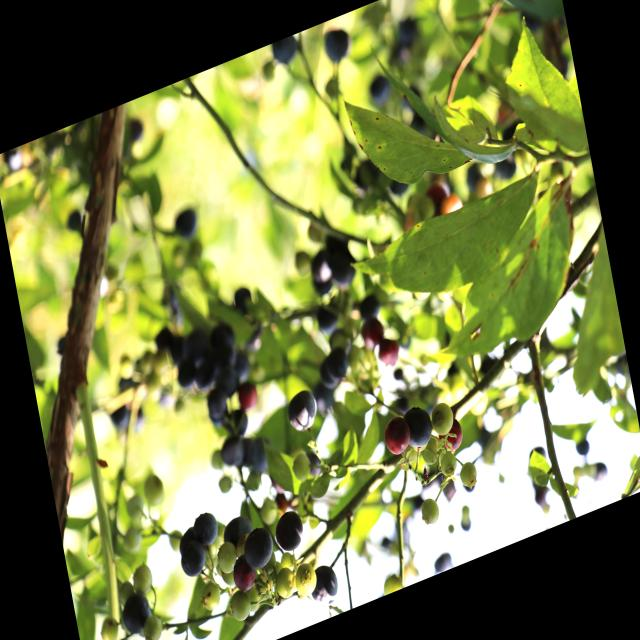blueberry: (398, 399, 436, 455), (307, 559, 341, 611), (272, 507, 306, 556), (243, 523, 276, 573), (285, 388, 318, 436), (219, 510, 256, 551), (120, 591, 152, 636), (322, 25, 352, 67), (330, 248, 358, 292), (193, 508, 221, 550), (314, 301, 341, 339), (180, 542, 206, 581), (366, 72, 394, 108), (272, 34, 299, 69), (324, 348, 350, 384), (247, 438, 270, 475), (220, 438, 245, 472), (206, 389, 228, 422)
blueberry-halfripe: (381, 410, 414, 460), (436, 416, 465, 456), (231, 554, 256, 594), (359, 316, 386, 352), (376, 337, 398, 370)
blueberry-unripe: (293, 560, 320, 600), (429, 399, 456, 438), (142, 472, 167, 508), (289, 450, 314, 486), (228, 586, 252, 623), (129, 565, 154, 600), (273, 566, 297, 601), (215, 539, 238, 575), (419, 495, 442, 529), (200, 582, 223, 614), (458, 458, 479, 492), (97, 613, 123, 640), (142, 612, 164, 640), (438, 451, 459, 478)
